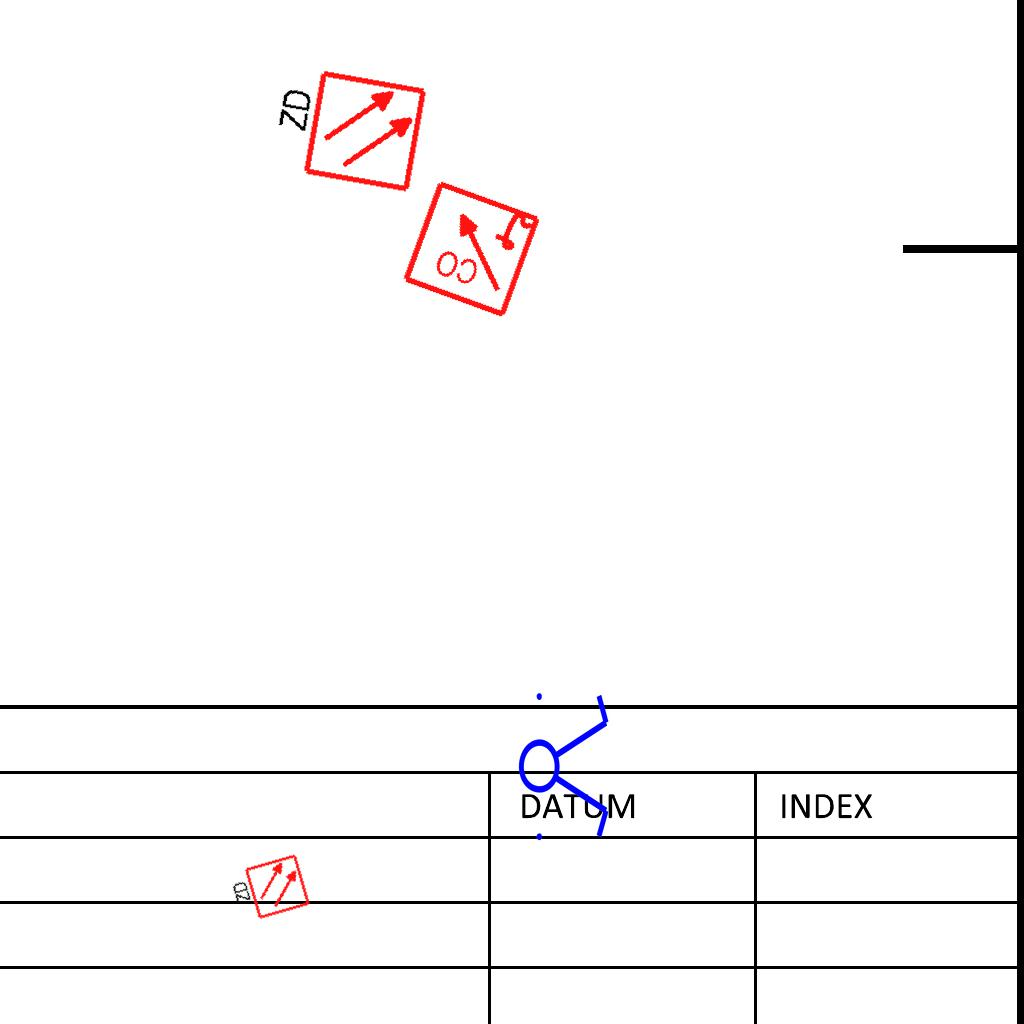ROA_Rauchmelder_optisch_mit_Signalgeber_(Sockelsirene): (399, 175, 544, 320)
Serienschalter: (517, 681, 613, 849)
ZD_Melder_in_Zwischendecke_mit_Revisionsoeffnung_mind_40_x_40_cm: (262, 60, 430, 199), (225, 852, 312, 928)
